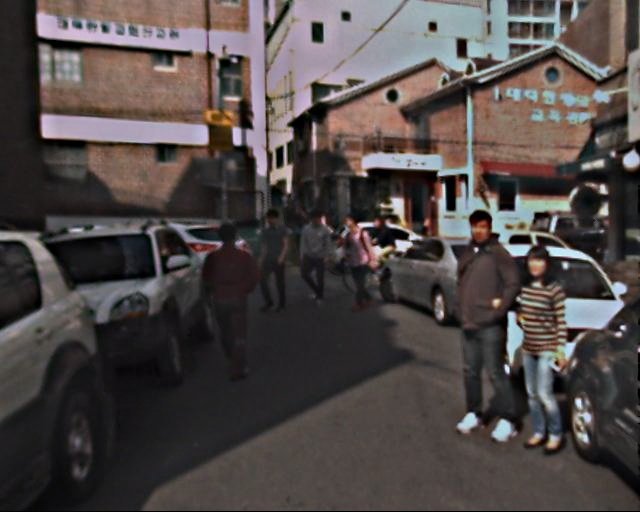person: (435, 210, 528, 437), (496, 248, 580, 454), (196, 221, 264, 386), (250, 206, 294, 314), (336, 211, 378, 313), (296, 210, 335, 306), (368, 215, 394, 278)
